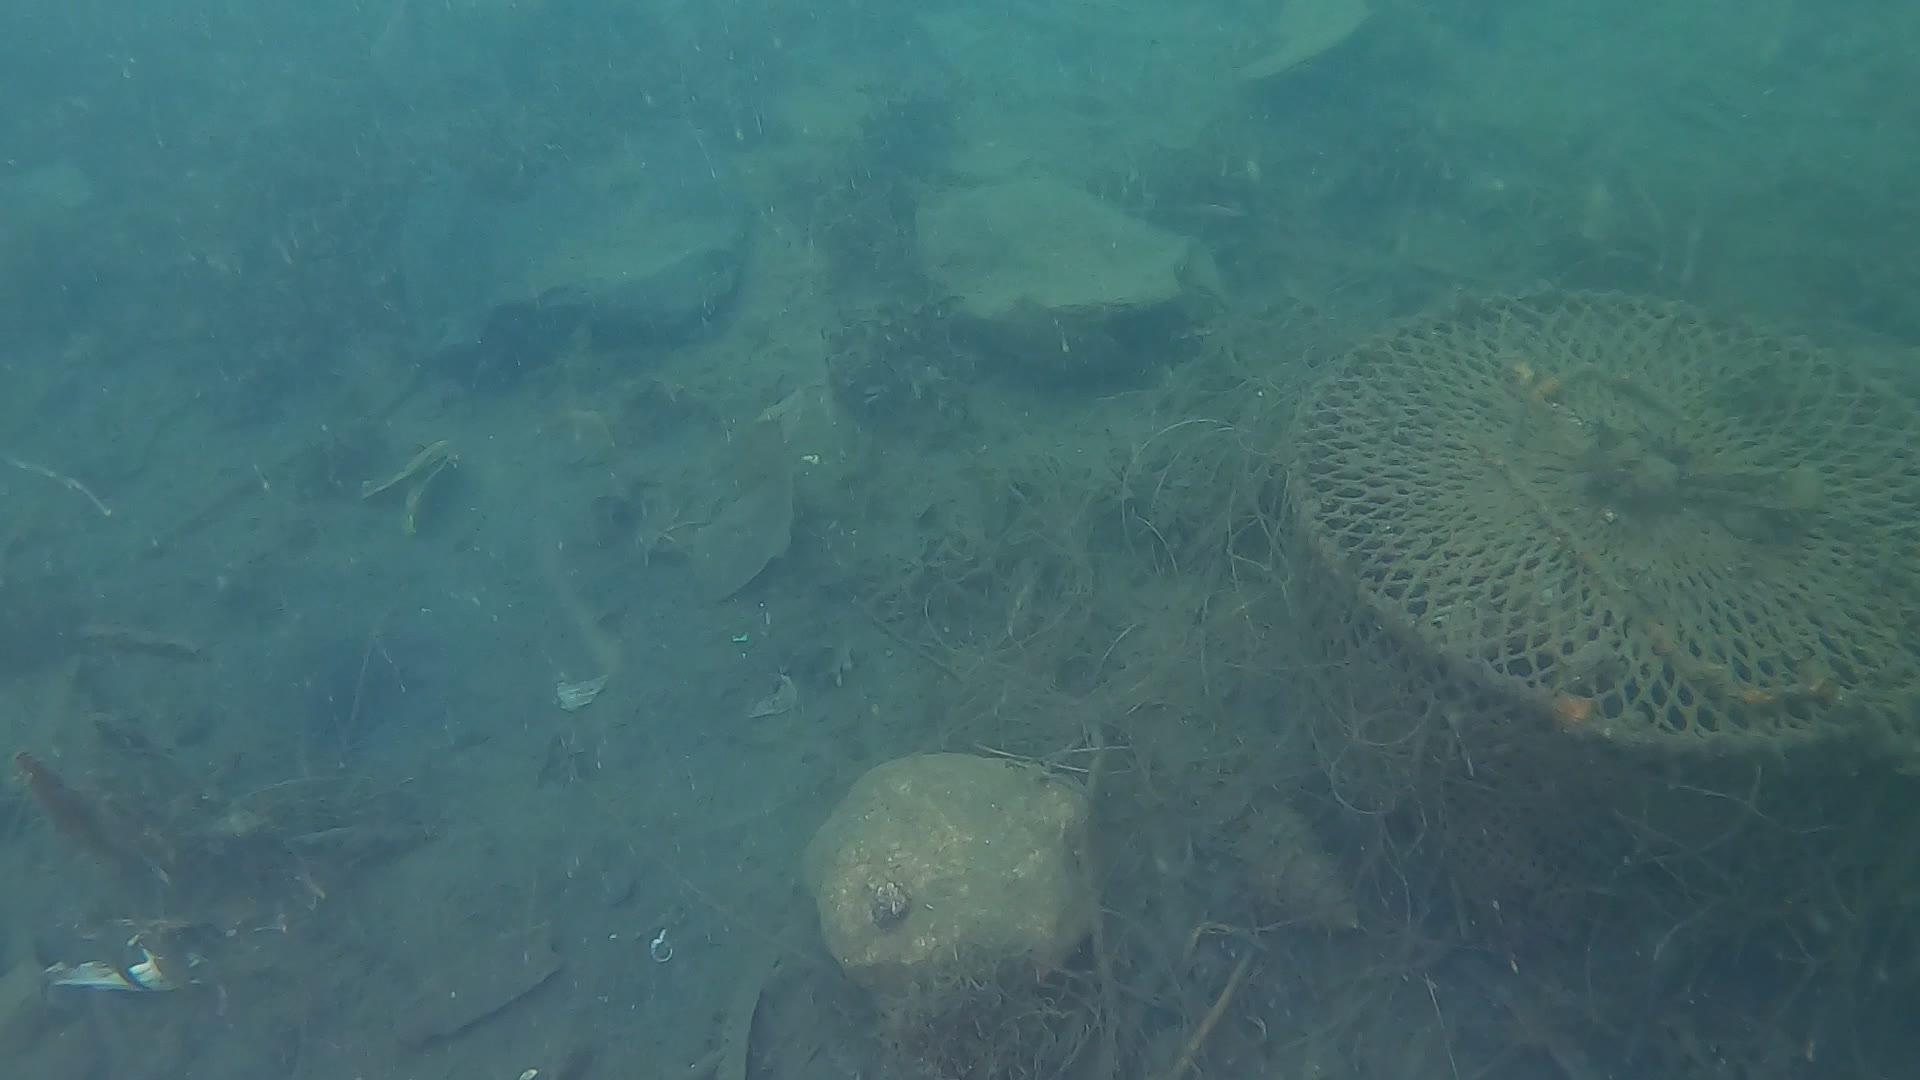circular fish trap: (1284, 274, 1920, 899)
